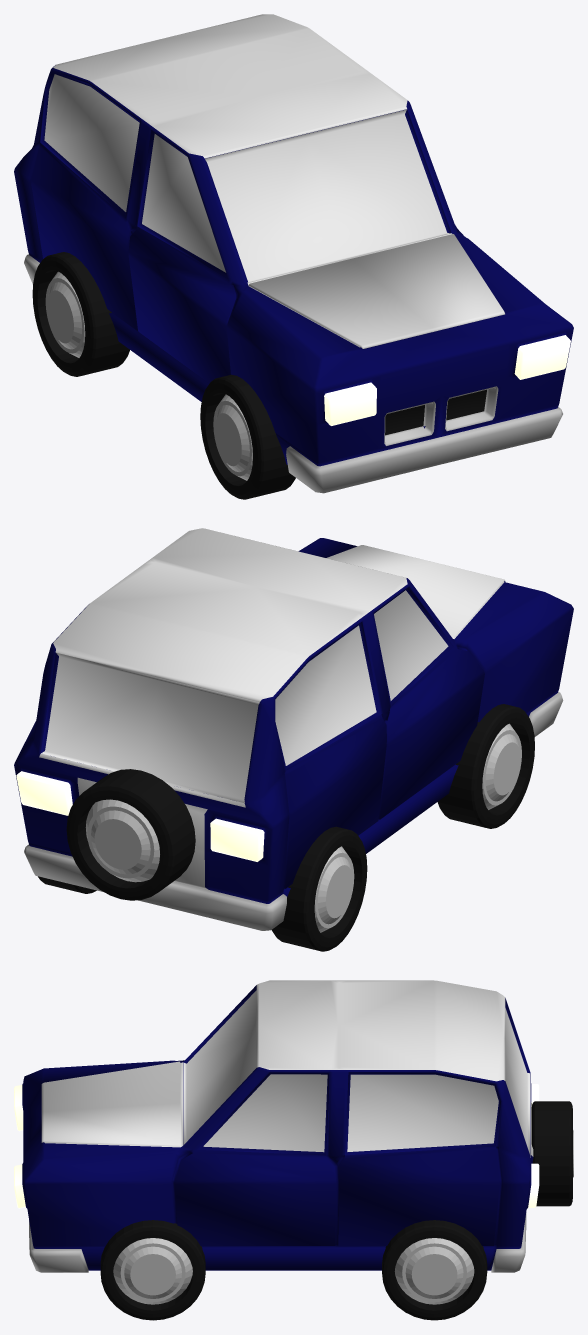
Rendered from SUV-car.fbx.
3 renders of one model, top to bottom at view 1: azimuth 30°, elevation 25°; view 2: azimuth 150°, elevation 25°; view 3: azimuth 270°, elevation 25°, orthographic. The views are drawn at different scales.
Parts seen in each view (by area): view 1: Cube.003; view 2: Cube.003; view 3: Cube.003.
Boxes of the visible parts, bbox=[...] form: Cube.003: bbox=[14, 14, 573, 499]; Cube.003: bbox=[14, 528, 573, 951]; Cube.003: bbox=[14, 980, 573, 1320].
Size of the model in its own units: 288 by 279 by 592.
